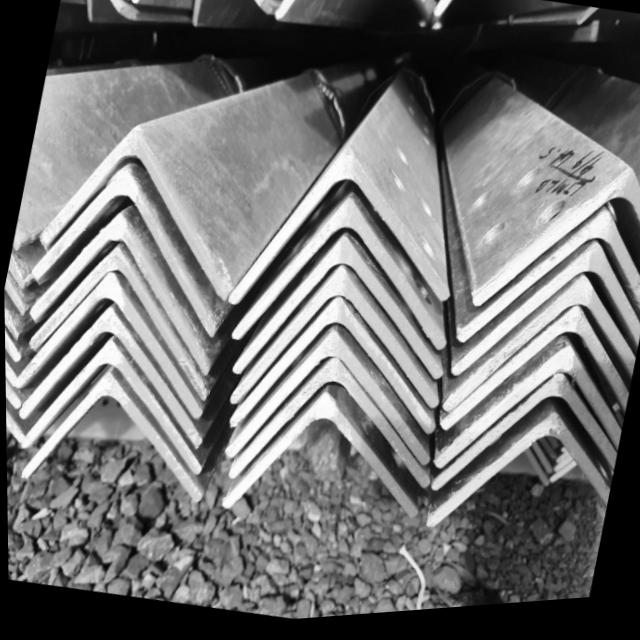metal-angles: (227, 149, 449, 308), (230, 201, 445, 357), (38, 129, 229, 302), (30, 167, 215, 340), (231, 240, 442, 385), (28, 214, 210, 379), (230, 271, 438, 415), (229, 301, 433, 441), (223, 336, 428, 472), (13, 274, 201, 421), (29, 247, 207, 402), (226, 362, 428, 494), (18, 309, 201, 451), (441, 284, 633, 419), (19, 337, 200, 478), (221, 396, 417, 524), (456, 216, 640, 351), (451, 251, 640, 382), (19, 370, 202, 504), (470, 176, 640, 314), (438, 314, 627, 438), (434, 353, 619, 474), (430, 383, 615, 497), (426, 420, 608, 534)
